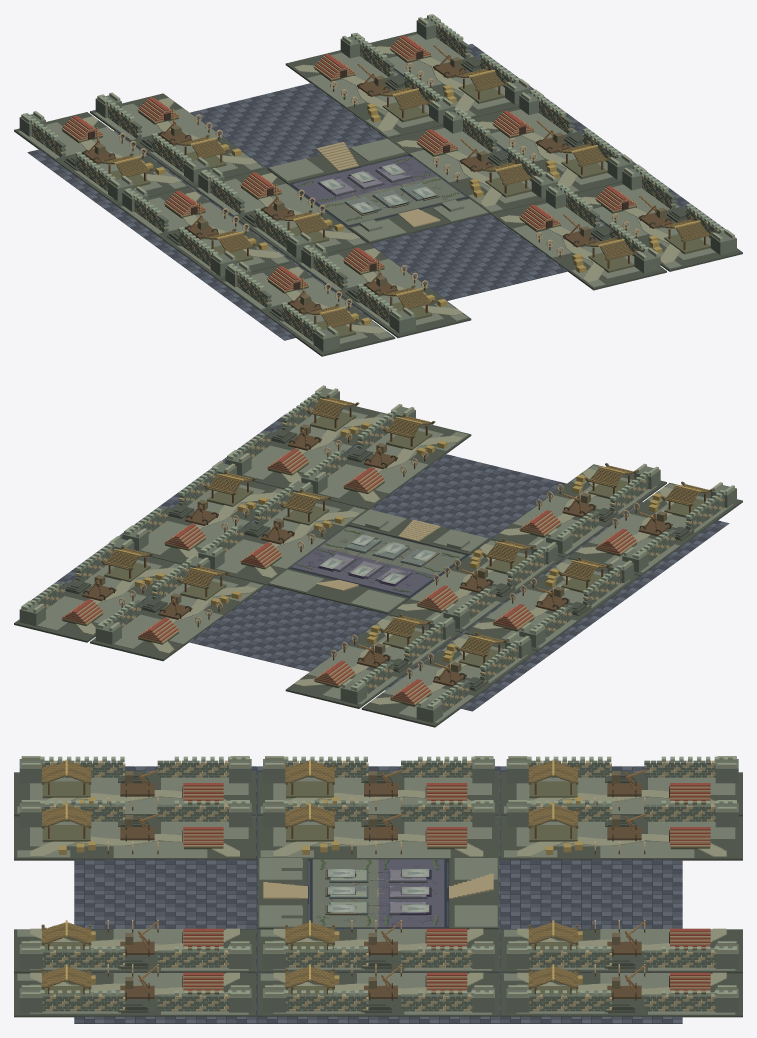
Rendered from castle.glb.
3 renders of one model, top to bottom at view 1: azimuth 30°, elevation 25°; view 2: azimuth 150°, elevation 25°; view 3: azimuth 270°, elevation 25°, orthographic. The views are drawn at different scales.
Parts seen in each view (by area): view 1: 24_Continuous_Outer_Floor_rock, 24_Continuous_Outer_Floor_rock2, 24_Continuous_Outer_Floor_rock3, 24_Outer_Floor_Mortar, Decorated_Halves_With_Six_Grounded_Stone_Bases, Approach_Flanking_Terraces, Landscape_Terrain_Fields__East_0_1, Landscape_Terrain_Fields__East_0_-1, Landscape_Terrain_Fields__East_0_0, Landscape_Terrain_Fields__West_0_1, Landscape_Terrain_Fields__West_1_1, Landscape_Terrain_Fields__West_1_0 (+62 smaller); view 2: 24_Continuous_Outer_Floor_rock3, 24_Continuous_Outer_Floor_rock, 24_Continuous_Outer_Floor_rock2, 24_Outer_Floor_Mortar, Decorated_Halves_With_Six_Grounded_Stone_Bases, Approach_Flanking_Terraces, Landscape_Terrain_Fields__East_0_-1, Landscape_Terrain_Fields__East_0_1, Landscape_Terrain_Fields__East_0_0, Approach_Terrain, Landscape_Terrain_Fields__East_1_1, Landscape_Terrain_Fields__East_1_0 (+57 smaller); view 3: 24_Continuous_Outer_Floor_rock, 24_Continuous_Outer_Floor_rock3, 24_Continuous_Outer_Floor_rock2, 24_Outer_Floor_Mortar, Decorated_Halves_With_Six_Grounded_Stone_Bases, Landscape_Terrain_Fields__West_0_1, Landscape_Terrain_Fields__West_0_-1, Landscape_Terrain_Fields, Approach_Flanking_Terraces, Landscape_Fortress_Masonry__East_1_1, Landscape_Fortress_Masonry__East_0_1, Landscape_Fortress_Masonry__East_1_-1 (+121 smaller).
Part boxes in pixels (bbox=[...]): 24_Continuous_Outer_Floor_rock: bbox=[27, 47, 724, 338]; 24_Continuous_Outer_Floor_rock2: bbox=[32, 50, 725, 336]; 24_Continuous_Outer_Floor_rock3: bbox=[36, 44, 719, 340]; 24_Outer_Floor_Mortar: bbox=[28, 47, 715, 340]; Decorated_Halves_With_Six_Grounded_Stone_Bases: bbox=[292, 156, 464, 225]; Approach_Flanking_Terraces: bbox=[269, 138, 488, 241]; Landscape_Terrain_Fields__East_0_1: bbox=[512, 203, 639, 287]; Landscape_Terrain_Fields__East_0_-1: bbox=[307, 52, 434, 136]; Landscape_Terrain_Fields__East_0_0: bbox=[410, 128, 536, 211]; Landscape_Terrain_Fields__West_0_1: bbox=[300, 254, 468, 330]; Landscape_Terrain_Fields__West_1_1: bbox=[224, 272, 392, 349]; Landscape_Terrain_Fields__West_1_0: bbox=[121, 197, 289, 274]; 24_Continuous_Outer_Floor_rock3: bbox=[43, 421, 728, 706]; 24_Continuous_Outer_Floor_rock: bbox=[32, 418, 721, 710]; 24_Continuous_Outer_Floor_rock2: bbox=[36, 414, 724, 709]; 24_Outer_Floor_Mortar: bbox=[32, 417, 729, 711]; Decorated_Halves_With_Six_Grounded_Stone_Bases: bbox=[292, 526, 464, 596]; Approach_Flanking_Terraces: bbox=[268, 509, 488, 612]; Landscape_Terrain_Fields__East_0_-1: bbox=[94, 578, 262, 648]; Landscape_Terrain_Fields__East_0_1: bbox=[319, 428, 468, 498]; Landscape_Terrain_Fields__East_0_0: bbox=[216, 503, 365, 573]; Approach_Terrain: bbox=[267, 511, 489, 614]; Landscape_Terrain_Fields__East_1_1: bbox=[243, 409, 387, 479]; Landscape_Terrain_Fields__East_1_0: bbox=[140, 484, 284, 555]; 24_Continuous_Outer_Floor_rock: bbox=[74, 766, 682, 1023]; 24_Continuous_Outer_Floor_rock3: bbox=[74, 766, 682, 1023]; 24_Continuous_Outer_Floor_rock2: bbox=[74, 766, 682, 1023]; 24_Outer_Floor_Mortar: bbox=[74, 766, 682, 1023]; Decorated_Halves_With_Six_Grounded_Stone_Bases: bbox=[312, 859, 444, 927]; Landscape_Terrain_Fields__West_0_1: bbox=[17, 816, 248, 858]; Landscape_Terrain_Fields__West_0_-1: bbox=[504, 816, 735, 858]; Landscape_Terrain_Fields: bbox=[260, 816, 491, 858]; Approach_Flanking_Terraces: bbox=[259, 858, 497, 927]; Landscape_Fortress_Masonry__East_1_1: bbox=[42, 994, 228, 1011]; Landscape_Fortress_Masonry__East_0_1: bbox=[42, 950, 228, 967]; Landscape_Fortress_Masonry__East_1_-1: bbox=[529, 994, 715, 1011].
Bounding box in the file's own units: 48 × 2.74 × 57.5.
Materials: 41 (1 with a texture image).
